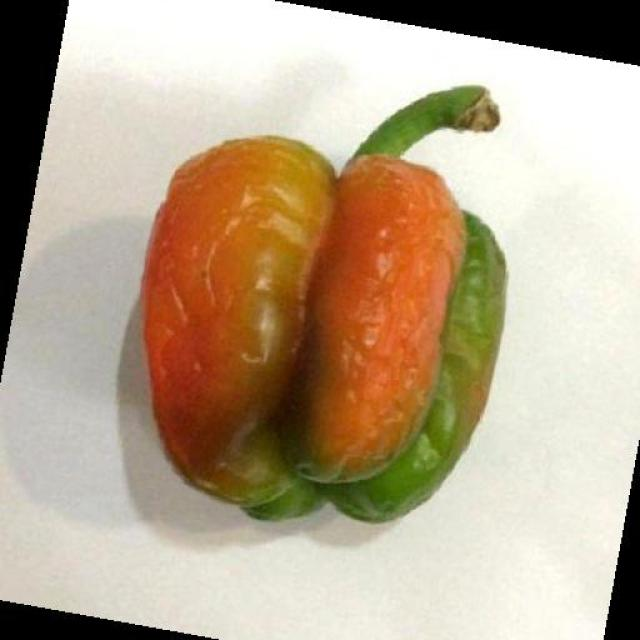Stale_Capsicum: (143, 107, 533, 527)
